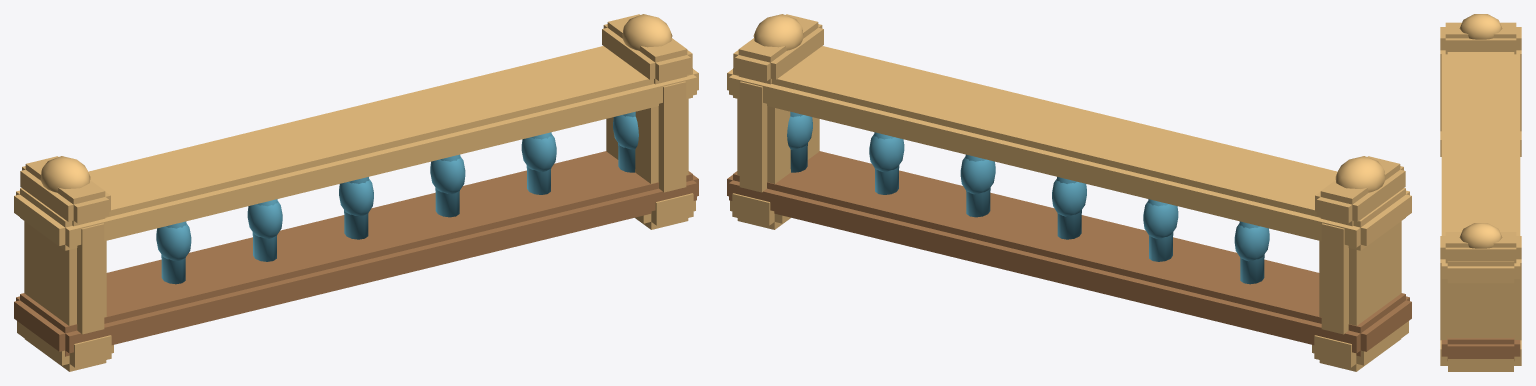
File: plaza-railing.glb
The picture shows the model from 3 angles, left to right: view 1: azimuth 30°, elevation 25°; view 2: azimuth 150°, elevation 25°; view 3: azimuth 270°, elevation 25°; orthographic projection. The views are drawn at different scales.
Visible parts, largest first — view 1: plaza-railing; view 2: plaza-railing; view 3: plaza-railing.
Part boxes in pixels (x1,y1,x2,y2): plaza-railing: (14,14,698,371); plaza-railing: (727,14,1411,371); plaza-railing: (1440,14,1521,371).
Size of the model in its own units: 3 by 0.86 by 0.45.
